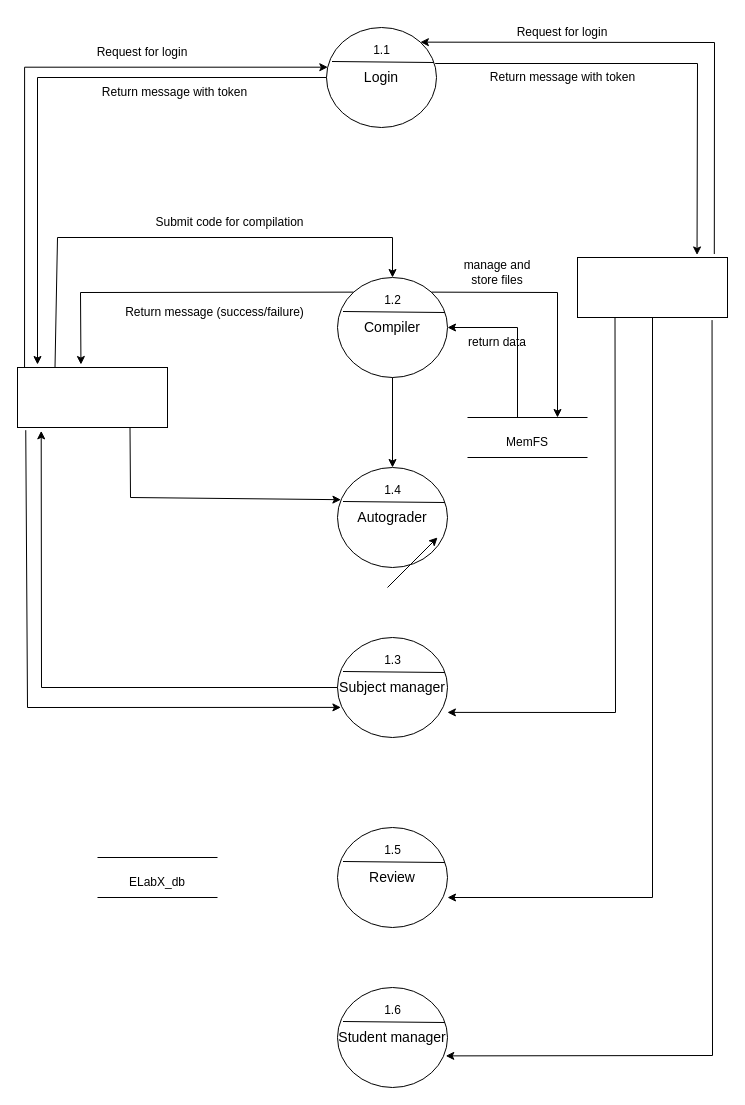
This 745x1105 diagram has some shape labels left out. Here are the shapes that lost their labels. From the top down, the centre of each, then its label:
point 652,287: Teacher
point 92,397: Student
